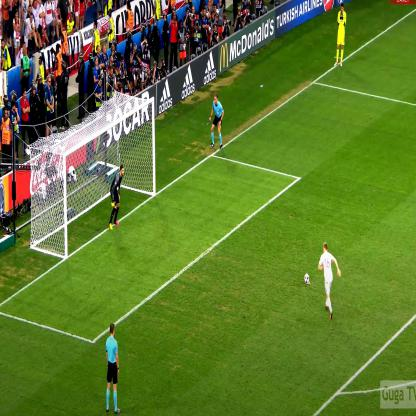penalty kick: (34, 138, 377, 317)
